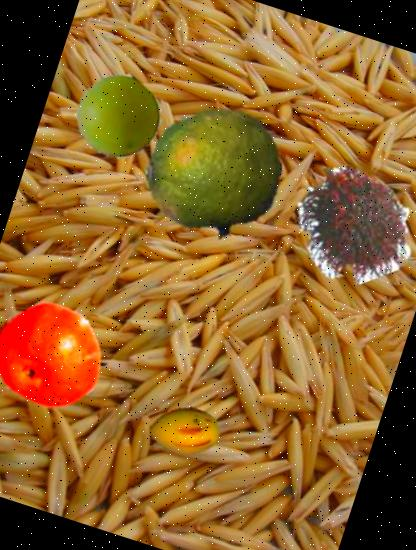Clementine: (0, 281, 120, 426)
Grape: (64, 64, 172, 170)
Limes: (127, 88, 300, 261)
Pepino: (140, 386, 229, 475)
Rambutan: (277, 144, 416, 298)
